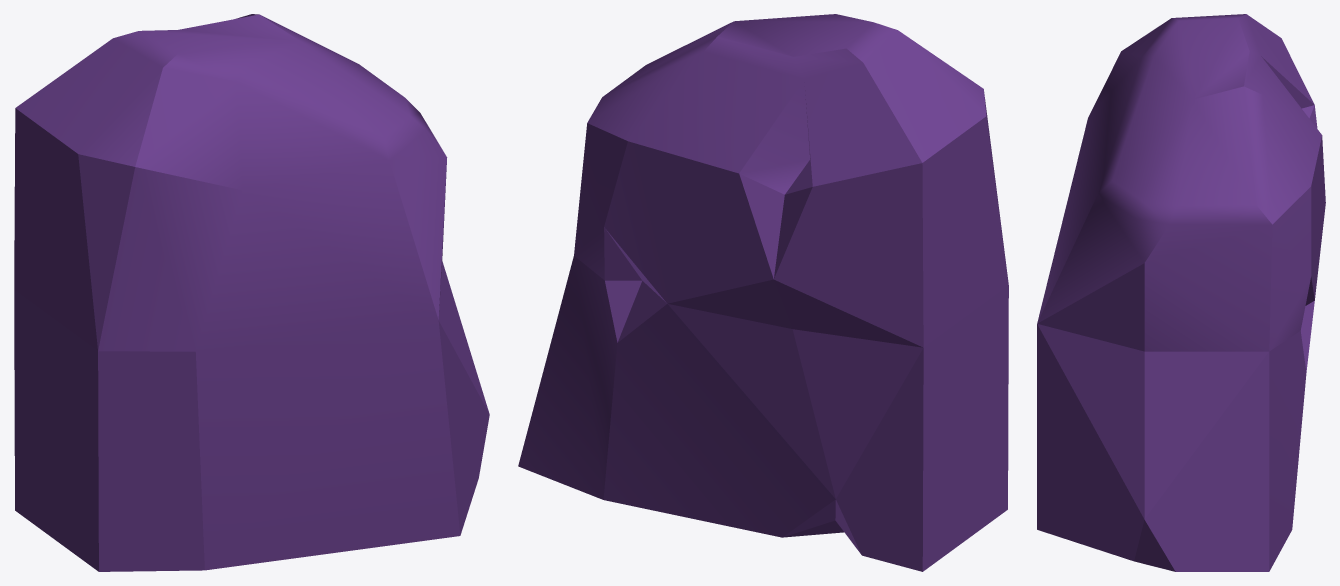
The model's file is Stones_Type_A_1.fbx.
3 renders of one model, left to right at view 1: azimuth 30°, elevation 25°; view 2: azimuth 150°, elevation 25°; view 3: azimuth 270°, elevation 25°, orthographic. The views are drawn at different scales.
Visible parts, largest first — view 1: Stones_Type_A_1; view 2: Stones_Type_A_1; view 3: Stones_Type_A_1.
Part boxes in pixels (x1,y1,x2,y2): Stones_Type_A_1: (14, 14, 489, 571); Stones_Type_A_1: (518, 14, 1008, 571); Stones_Type_A_1: (1037, 14, 1325, 571).
Bounding box in the file's own units: 527 × 587 × 365.
